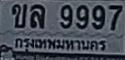7: (108, 4, 122, 29)
9: (91, 4, 104, 29), (59, 4, 72, 28), (75, 4, 88, 28)
A02: (11, 3, 26, 27)
A36: (29, 4, 44, 28)
BKK: (14, 34, 109, 54)
